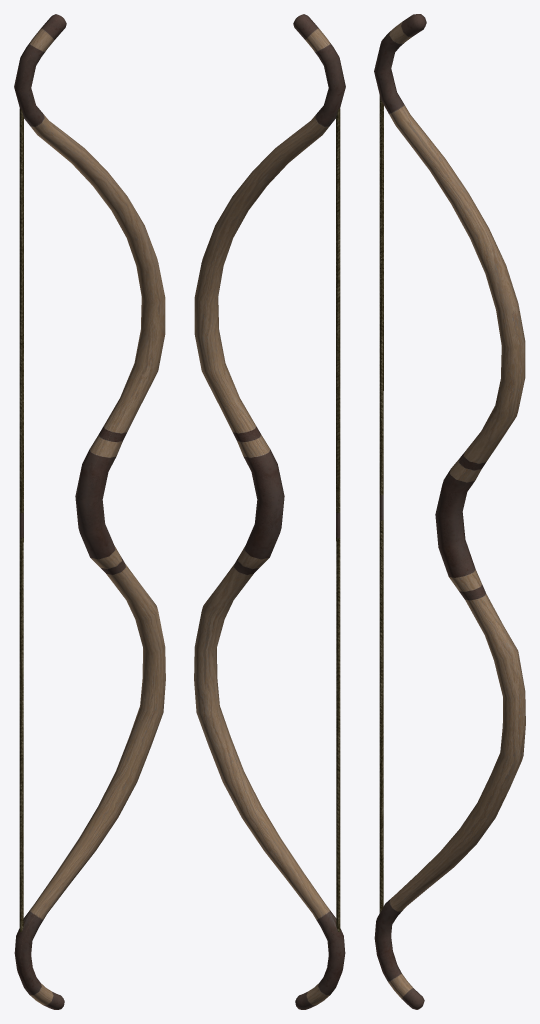
Rendered from LongBow2.fbx.
The picture shows the model from 3 angles, left to right: view 1: azimuth 30°, elevation 25°; view 2: azimuth 150°, elevation 25°; view 3: azimuth 330°, elevation 25°; orthographic projection.
Parts seen in each view (by area): view 1: sticklow_bow2, rope_bow2; view 2: sticklow_bow2, rope_bow2; view 3: sticklow_bow2, rope_bow2.
Part boxes in pixels (x1,y1,x2,y2): sticklow_bow2: (14, 14, 165, 1009); rope_bow2: (19, 108, 23, 931); sticklow_bow2: (194, 14, 345, 1009); rope_bow2: (336, 108, 340, 931); sticklow_bow2: (374, 14, 525, 1009); rope_bow2: (379, 96, 383, 913).
Bounding box in the file's own units: 430 × 2730 × 71.2.
Materials: 1 (1 with a texture image).
